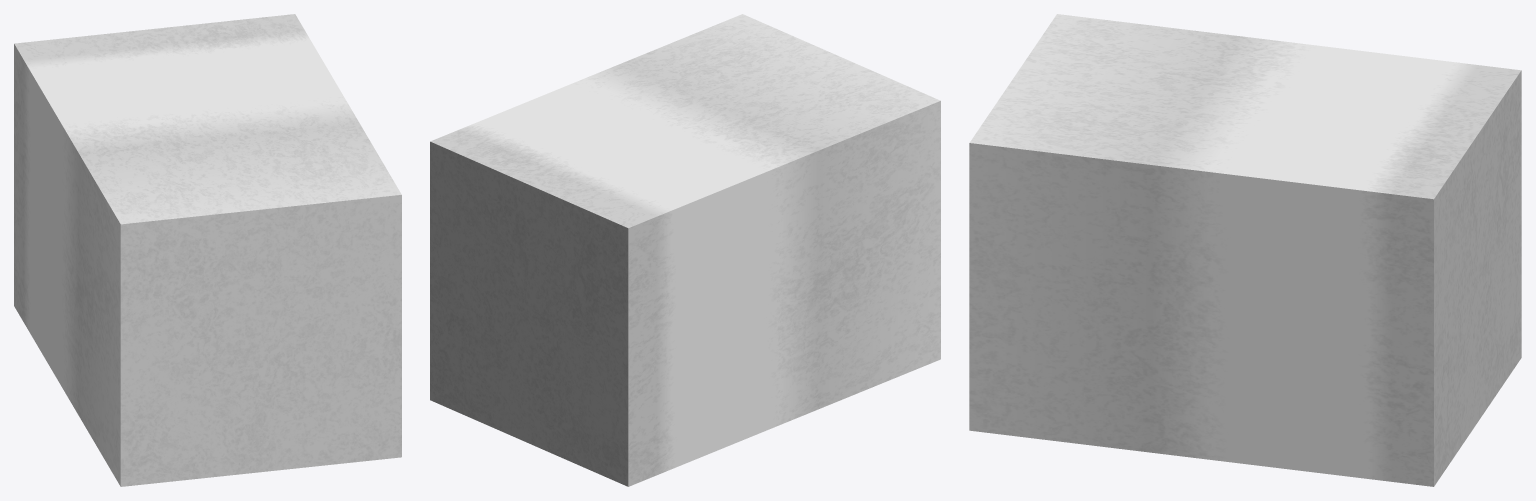
File: RolfArt.gltf
3 views of the same model, side by side, from view 1: azimuth 30°, elevation 25°; view 2: azimuth 150°, elevation 25°; view 3: azimuth 270°, elevation 25° (orthographic). The views are drawn at different scales.
Visible parts, largest first — view 1: RolfArt; view 2: RolfArt; view 3: RolfArt.
Part boxes in pixels (x1,y1,x2,y2): RolfArt: [14, 14, 401, 486]; RolfArt: [430, 14, 940, 486]; RolfArt: [969, 14, 1521, 486].
Bounding box in the file's own units: 0.4599 × 0.333 × 0.5791.
Materials: 1 (1 with a texture image).
